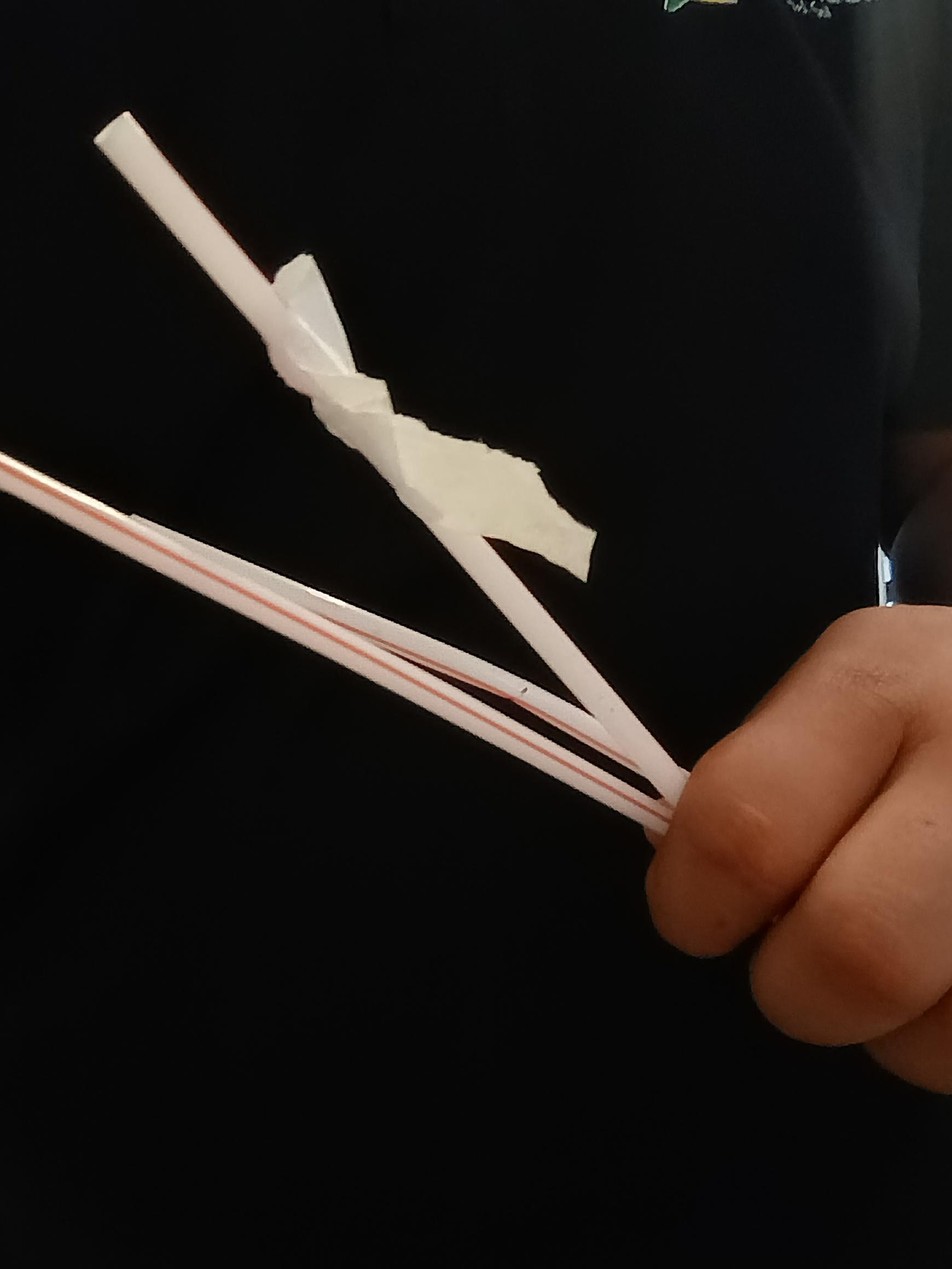Ordinario: (4, 110, 690, 835)
